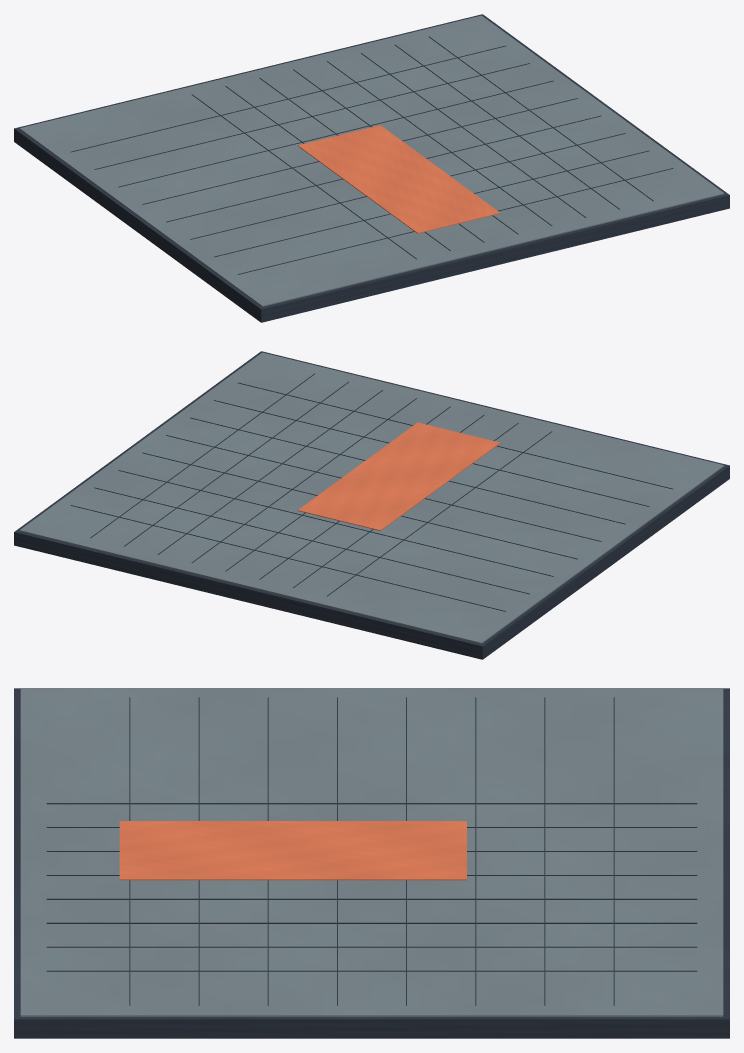
File: atlas100-s025-a07.lod1.glb
3 renders of one model, top to bottom at view 1: azimuth 30°, elevation 25°; view 2: azimuth 150°, elevation 25°; view 3: azimuth 270°, elevation 25°, orthographic. The views are drawn at different scales.
Visible parts, largest first — view 1: atlas100-s025-a07:part-001, atlas100-s025-a07:part-000, atlas100-s025-a07:part-021, atlas100-s025-a07:part-015, atlas100-s025-a07:part-013, atlas100-s025-a07:part-014, atlas100-s025-a07:part-017, atlas100-s025-a07:part-019, atlas100-s025-a07:part-016, atlas100-s025-a07:part-018, atlas100-s025-a07:part-020; view 2: atlas100-s025-a07:part-001, atlas100-s025-a07:part-000, atlas100-s025-a07:part-021, atlas100-s025-a07:part-013, atlas100-s025-a07:part-015, atlas100-s025-a07:part-014, atlas100-s025-a07:part-016, atlas100-s025-a07:part-018, atlas100-s025-a07:part-017, atlas100-s025-a07:part-019, atlas100-s025-a07:part-020; view 3: atlas100-s025-a07:part-001, atlas100-s025-a07:part-000, atlas100-s025-a07:part-021, atlas100-s025-a07:part-009, atlas100-s025-a07:part-011, atlas100-s025-a07:part-012, atlas100-s025-a07:part-005, atlas100-s025-a07:part-010, atlas100-s025-a07:part-015, atlas100-s025-a07:part-013, atlas100-s025-a07:part-014.
Part boxes in pixels (bbox=[...]): atlas100-s025-a07:part-001: bbox=[19, 15, 724, 306]; atlas100-s025-a07:part-000: bbox=[14, 14, 729, 322]; atlas100-s025-a07:part-021: bbox=[297, 125, 500, 233]; atlas100-s025-a07:part-015: bbox=[118, 80, 553, 187]; atlas100-s025-a07:part-013: bbox=[71, 45, 505, 152]; atlas100-s025-a07:part-014: bbox=[94, 63, 529, 169]; atlas100-s025-a07:part-017: bbox=[166, 115, 601, 222]; atlas100-s025-a07:part-019: bbox=[214, 150, 649, 257]; atlas100-s025-a07:part-016: bbox=[142, 98, 577, 204]; atlas100-s025-a07:part-018: bbox=[190, 133, 625, 239]; atlas100-s025-a07:part-020: bbox=[238, 168, 673, 274]; atlas100-s025-a07:part-001: bbox=[19, 352, 724, 643]; atlas100-s025-a07:part-000: bbox=[14, 351, 729, 659]; atlas100-s025-a07:part-021: bbox=[297, 422, 500, 530]; atlas100-s025-a07:part-013: bbox=[70, 505, 505, 611]; atlas100-s025-a07:part-015: bbox=[118, 470, 553, 576]; atlas100-s025-a07:part-014: bbox=[94, 487, 529, 594]; atlas100-s025-a07:part-016: bbox=[142, 452, 577, 559]; atlas100-s025-a07:part-018: bbox=[190, 417, 625, 524]; atlas100-s025-a07:part-017: bbox=[166, 435, 601, 541]; atlas100-s025-a07:part-019: bbox=[214, 400, 649, 506]; atlas100-s025-a07:part-020: bbox=[238, 382, 672, 489]; atlas100-s025-a07:part-001: bbox=[20, 689, 723, 1016]; atlas100-s025-a07:part-000: bbox=[14, 688, 729, 1038]; atlas100-s025-a07:part-021: bbox=[119, 821, 466, 880]; atlas100-s025-a07:part-009: bbox=[46, 898, 697, 899]; atlas100-s025-a07:part-011: bbox=[46, 946, 697, 947]; atlas100-s025-a07:part-012: bbox=[46, 970, 697, 971]; atlas100-s025-a07:part-005: bbox=[46, 803, 697, 804]; atlas100-s025-a07:part-010: bbox=[46, 922, 697, 923]; atlas100-s025-a07:part-015: bbox=[475, 697, 476, 1005]; atlas100-s025-a07:part-013: bbox=[613, 697, 614, 1005]; atlas100-s025-a07:part-014: bbox=[544, 697, 545, 1005].
Bounding box in the file's own units: 12.46 × 0.404 × 11.39.
3 materials, 3 textured.
